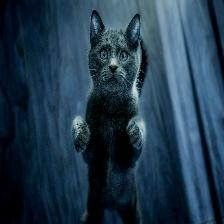kedo: (73, 9, 145, 224)
